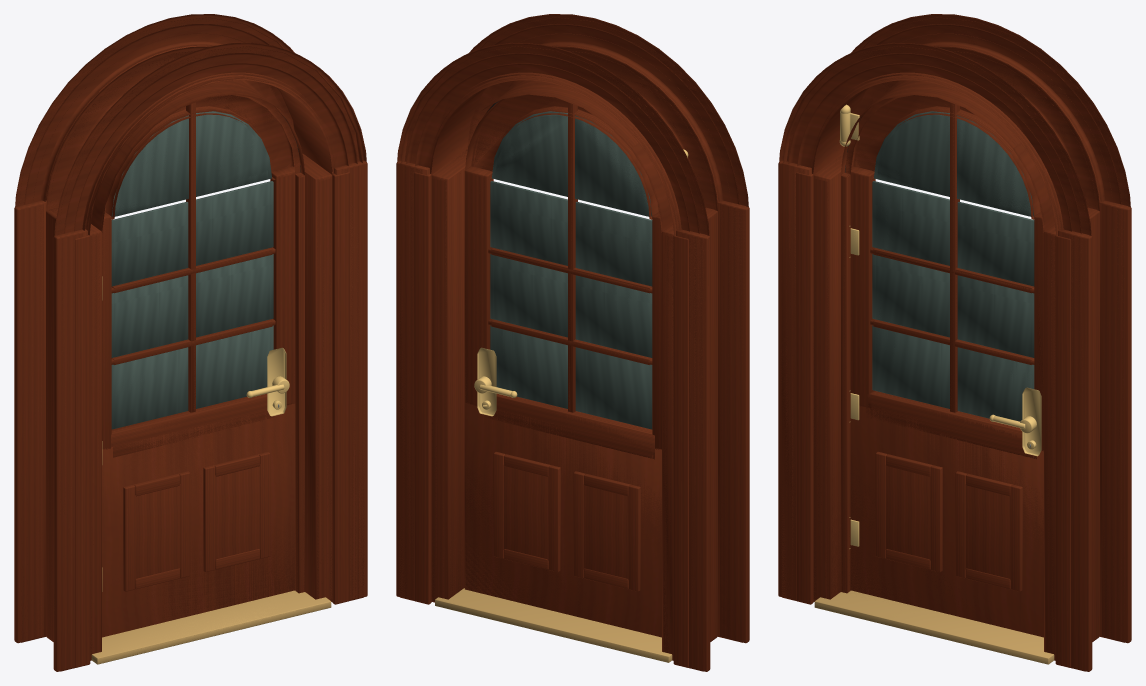
Rendered from door_high_end.glb.
3 views of the same model, side by side, from view 1: azimuth 30°, elevation 25°; view 2: azimuth 150°, elevation 25°; view 3: azimuth 330°, elevation 25° (orthographic).
Parts seen in each view (by area): view 1: MESH_LOD0_StaticArchedFrameAssembly, MESH_LOD1_StaticArchedFrameAssembly, MESH_LOD2_StaticArchedFrameAssembly, MESH_LOD0_Single_LowerSolid, MESH_LOD2_Single_LowerSolid, MESH_LOD1_Single_LowerSolid, MESH_LOD0_Single_GlassPane_05, MESH_LOD0_Single_GlassPane_03, MESH_LOD0_Single_GlassPane_06, MESH_LOD0_Single_GlassPane_07, MESH_LOD0_Single_GlassPane_04, MESH_LOD0_Single_LatchStile (+35 smaller); view 2: MESH_LOD0_StaticArchedFrameAssembly, MESH_LOD1_StaticArchedFrameAssembly, MESH_LOD2_StaticArchedFrameAssembly, MESH_LOD1_Single_LowerSolid, MESH_LOD0_Single_LowerSolid, MESH_LOD2_Single_LowerSolid, MESH_LOD0_Single_GlassPane_06, MESH_LOD0_Single_GlassPane_08, MESH_LOD0_Single_GlassPane_04, MESH_LOD0_Single_LatchStile, MESH_LOD0_Single_GlassPane_05, MESH_LOD2_Single_GlassPane_05 (+38 smaller); view 3: MESH_LOD0_StaticArchedFrameAssembly, MESH_LOD1_StaticArchedFrameAssembly, MESH_LOD2_StaticArchedFrameAssembly, MESH_LOD0_Single_LowerSolid, MESH_LOD1_Single_LowerSolid, MESH_LOD2_Single_LowerSolid, MESH_LOD2_Single_GlassPane_01, MESH_LOD0_Single_GlassPane_06, MESH_LOD0_Single_GlassPane_05, MESH_LOD0_Single_GlassPane_04, MESH_LOD0_Single_GlassPane_08, MESH_LOD0_Single_GlassPane_03 (+40 smaller).
Part boxes in pixels (x1,y1,x2,y2): MESH_LOD0_StaticArchedFrameAssembly: (14,14,367,671); MESH_LOD1_StaticArchedFrameAssembly: (14,14,367,671); MESH_LOD2_StaticArchedFrameAssembly: (18,17,364,671); MESH_LOD0_Single_LowerSolid: (102,405,295,637); MESH_LOD2_Single_LowerSolid: (102,403,295,620); MESH_LOD1_Single_LowerSolid: (102,403,295,621); MESH_LOD0_Single_GlassPane_05: (113,203,187,284); MESH_LOD0_Single_GlassPane_03: (113,275,187,356); MESH_LOD0_Single_GlassPane_06: (196,183,269,264); MESH_LOD0_Single_GlassPane_07: (115,119,188,216); MESH_LOD0_Single_GlassPane_04: (196,255,269,336); MESH_LOD0_Single_LatchStile: (273,171,295,404); MESH_LOD0_StaticArchedFrameAssembly: (396,14,749,671); MESH_LOD1_StaticArchedFrameAssembly: (396,14,749,671); MESH_LOD2_StaticArchedFrameAssembly: (399,17,745,671); MESH_LOD1_Single_LowerSolid: (465,403,661,636); MESH_LOD0_Single_LowerSolid: (467,404,661,637); MESH_LOD2_Single_LowerSolid: (464,403,661,617); MESH_LOD0_Single_GlassPane_06: (494,183,567,264); MESH_LOD0_Single_GlassPane_08: (495,115,567,196); MESH_LOD0_Single_GlassPane_04: (494,255,567,336); MESH_LOD0_Single_LatchStile: (466,170,490,404); MESH_LOD0_Single_GlassPane_05: (576,203,650,283); MESH_LOD2_Single_GlassPane_05: (575,201,652,286); MESH_LOD0_StaticArchedFrameAssembly: (778,14,1131,671); MESH_LOD1_StaticArchedFrameAssembly: (778,14,1131,671); MESH_LOD2_StaticArchedFrameAssembly: (781,17,1127,671); MESH_LOD0_Single_LowerSolid: (850,407,1043,637); MESH_LOD1_Single_LowerSolid: (850,405,1043,633); MESH_LOD2_Single_LowerSolid: (850,406,1043,620); MESH_LOD2_Single_GlassPane_01: (872,325,949,408); MESH_LOD0_Single_GlassPane_06: (958,203,1032,284); MESH_LOD0_Single_GlassPane_05: (876,183,949,264); MESH_LOD0_Single_GlassPane_04: (958,275,1032,356); MESH_LOD0_Single_GlassPane_08: (957,118,1030,216); MESH_LOD0_Single_GlassPane_03: (876,255,949,336).
Size of what is drawn, in the model's own units: 1.51 by 2.71 by 0.3805.
6 materials, 2 textured.
